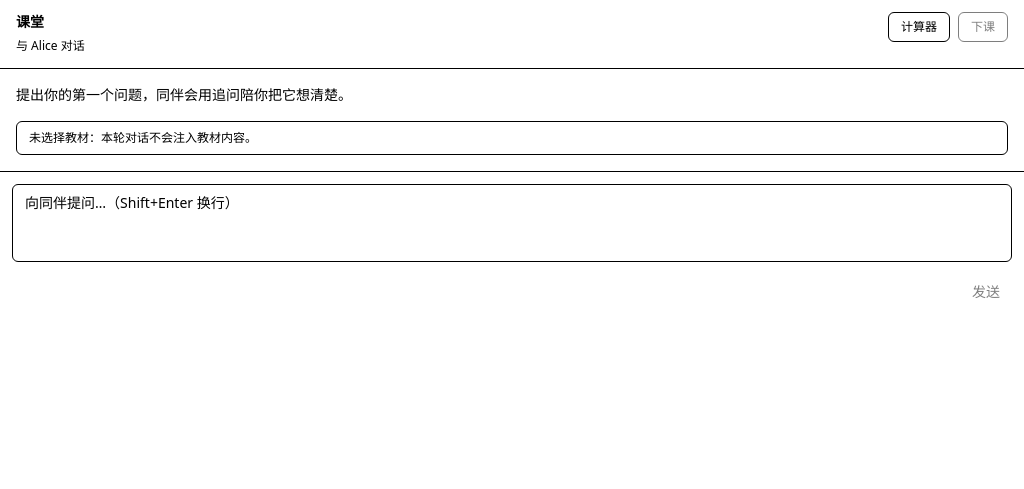
ChatPanel › shows token events as a live draft and persists the reply once on end
This screenshot has width=1024, height=489.
In the text box named "Message": (512, 223) [12,184,1012,262], type "讲讲惯性"
Then press Enter
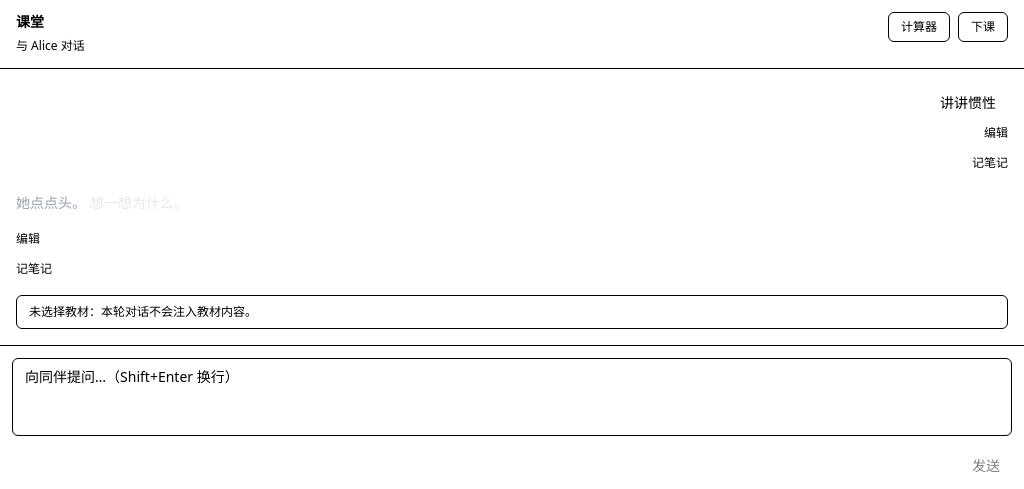
Check: the text "她点点头。 想一想为什么。" is shown, box [16,193,188,212]
